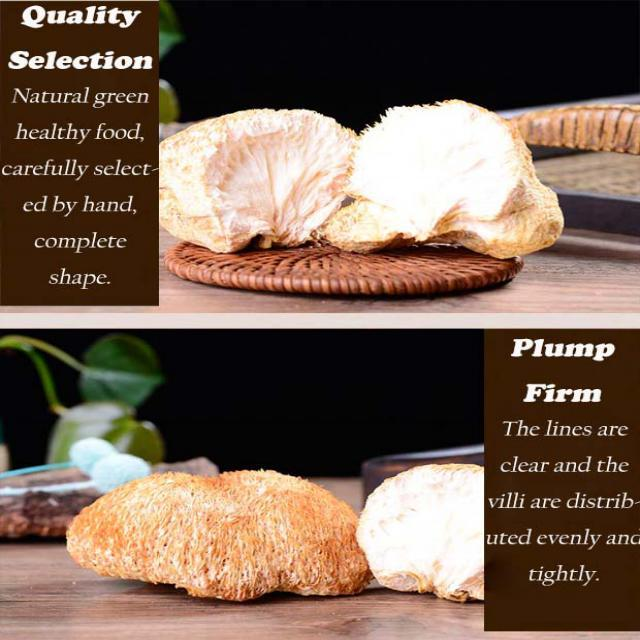Hericium erinaceus: (70, 465, 364, 601), (335, 100, 563, 253), (159, 107, 355, 253), (359, 457, 488, 603)
